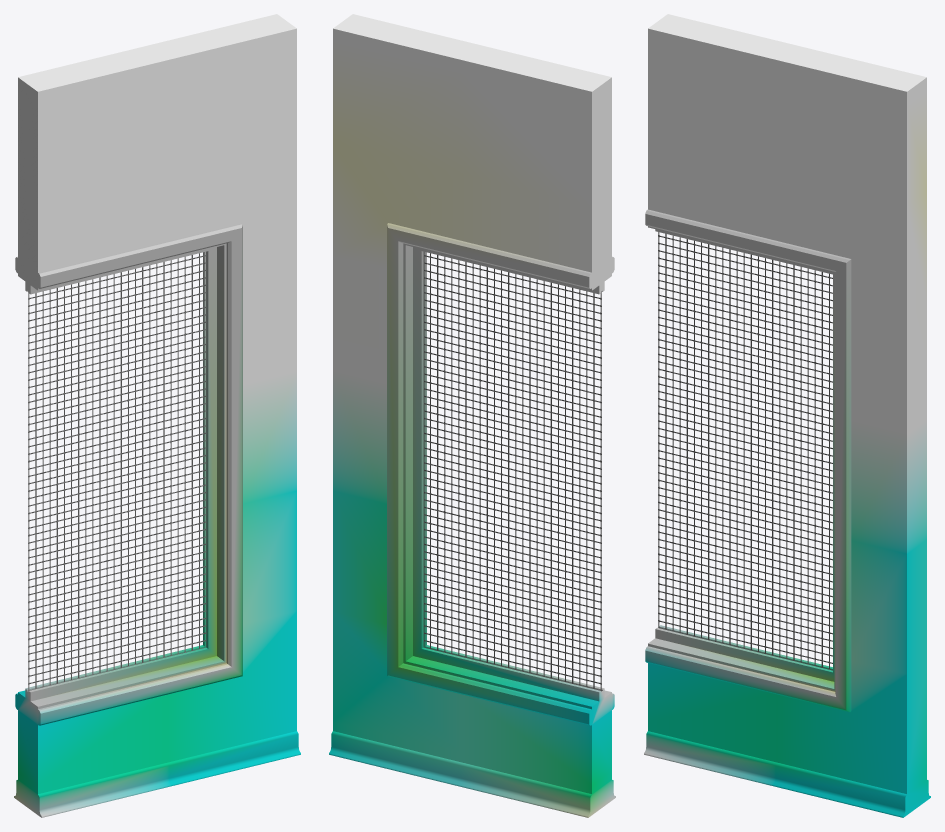
Rendered from SM_Wall_window_a@VertexColors_0.fbx.
3 renders of one model, left to right at view 1: azimuth 30°, elevation 25°; view 2: azimuth 150°, elevation 25°; view 3: azimuth 330°, elevation 25°, orthographic.
Visible parts, largest first — view 1: SM_Wall_window_a; view 2: SM_Wall_window_a; view 3: SM_Wall_window_a.
Part boxes in pixels (box(x1,y1,x2,y2)): SM_Wall_window_a: box(14, 14, 300, 817); SM_Wall_window_a: box(329, 14, 615, 817); SM_Wall_window_a: box(644, 14, 930, 817).
Size of the model in its own units: 150 by 27.69 by 400.
